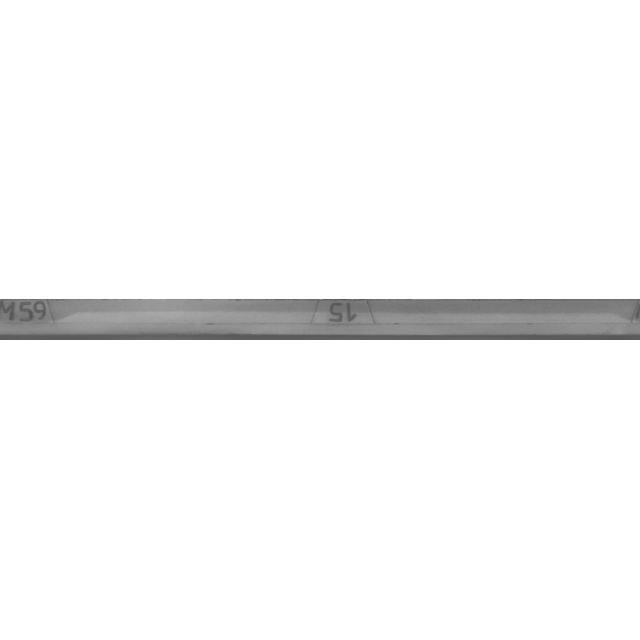mohao: (0, 270, 116, 370)
xuehao: (239, 270, 439, 370)
